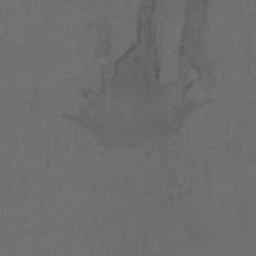Water spot: (59, 0, 219, 214)
